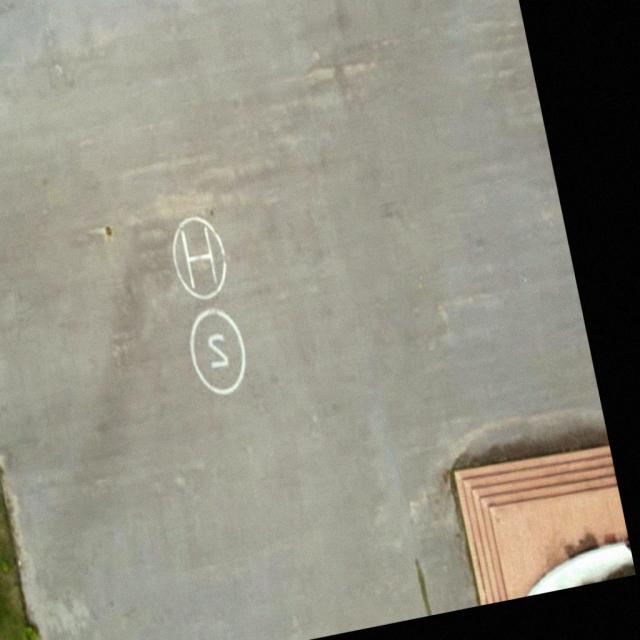helipad: (169, 211, 229, 301)
